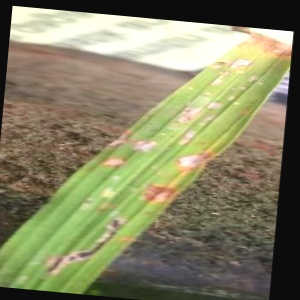Brown_Spot: (35, 205, 133, 280), (95, 122, 170, 158), (169, 139, 216, 181), (137, 173, 182, 204), (101, 150, 139, 175), (227, 48, 259, 76), (176, 118, 203, 148), (193, 111, 221, 132), (204, 95, 228, 115), (207, 69, 230, 86)
